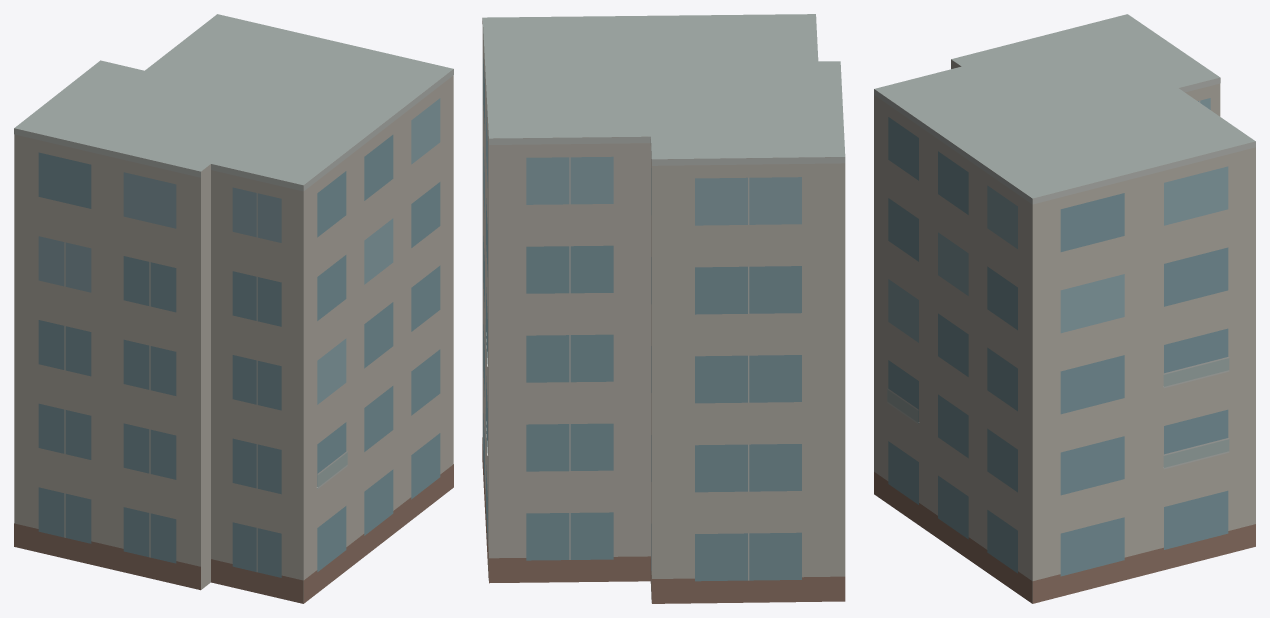
Rendered from survey-upis-32952579.glb.
3 renders of one model, left to right at view 1: azimuth 30°, elevation 25°; view 2: azimuth 150°, elevation 25°; view 3: azimuth 270°, elevation 25°, orthographic. The views are drawn at different scales.
Parts seen in each view (by area): view 1: survey-upis-32952579.tmp; view 2: survey-upis-32952579.tmp; view 3: survey-upis-32952579.tmp.
Boxes of the visible parts, x1,y1,x2,y2 form: survey-upis-32952579.tmp: (14,14,453,603); survey-upis-32952579.tmp: (482,14,845,603); survey-upis-32952579.tmp: (874,14,1255,603).
Bounding box in the file's own units: 16.12 × 16.5 × 14.09.
